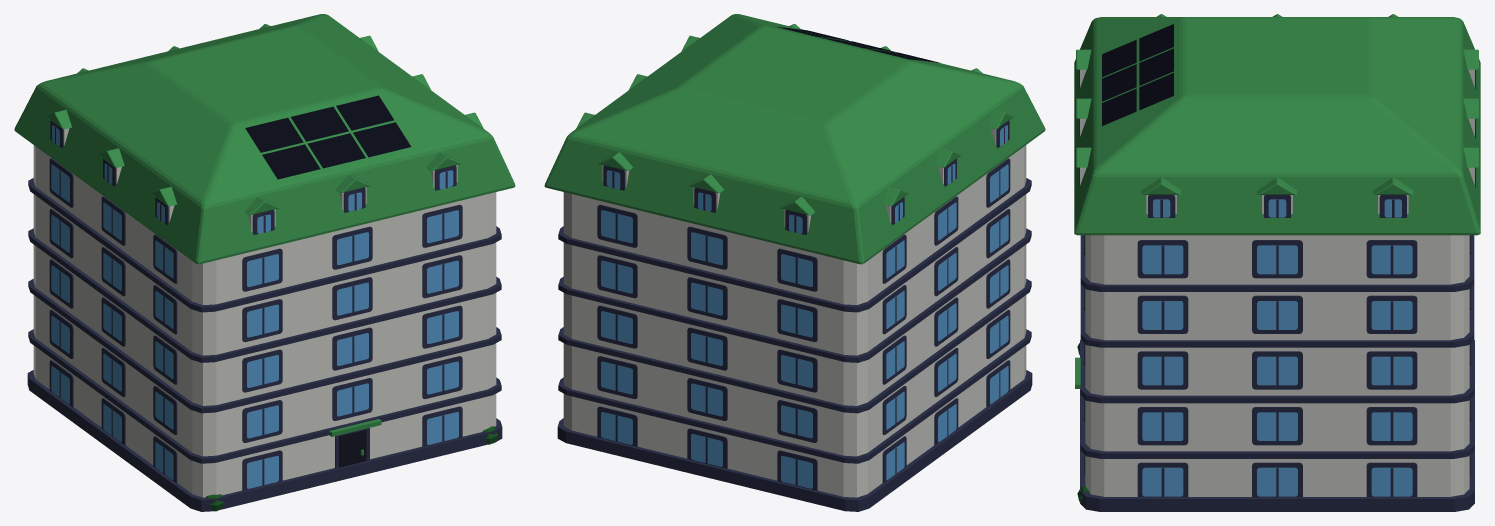
The model's file is house-2x2-5f-mansard-a-solar.glb.
3 views of the same model, side by side, from view 1: azimuth 30°, elevation 25°; view 2: azimuth 150°, elevation 25°; view 3: azimuth 270°, elevation 25° (orthographic). The views are drawn at different scales.
Visible parts, largest first — view 1: house-2x2-5f-mansard-a-solar; view 2: house-2x2-5f-mansard-a-solar; view 3: house-2x2-5f-mansard-a-solar.
Part boxes in pixels (bbox=[...]): house-2x2-5f-mansard-a-solar: bbox=[14, 14, 515, 511]; house-2x2-5f-mansard-a-solar: bbox=[544, 14, 1045, 511]; house-2x2-5f-mansard-a-solar: bbox=[1074, 14, 1480, 511].
Bounding box in the file's own units: 1.99 × 2.01 × 1.99.
Materials: 1 (1 with a texture image).
